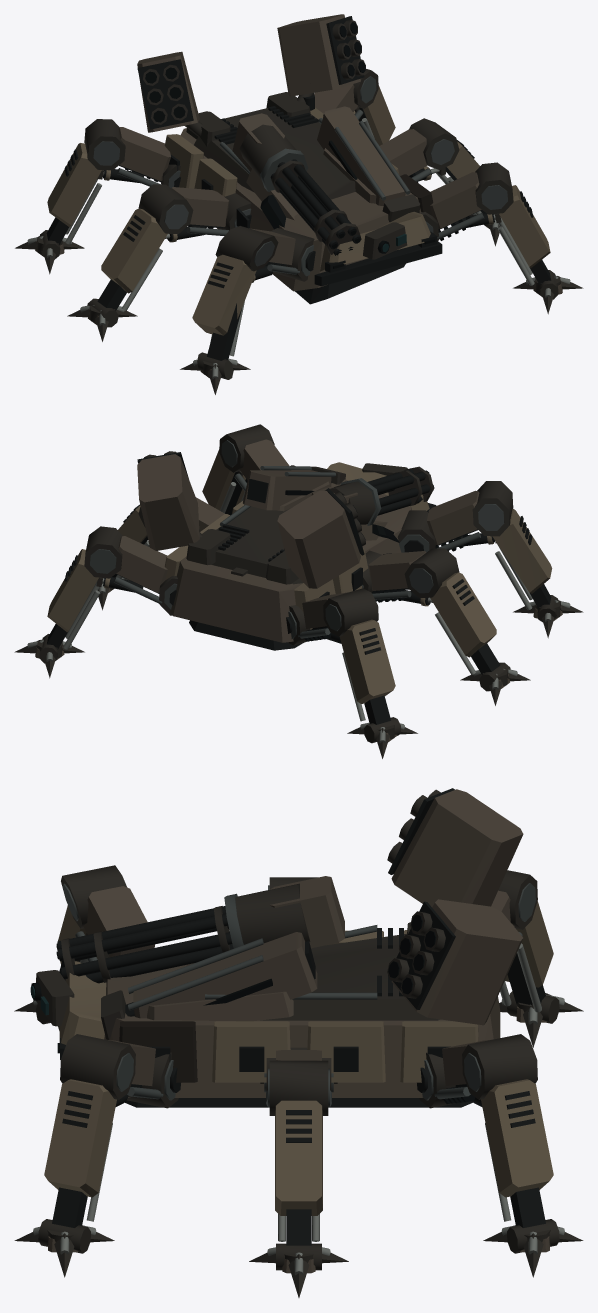
3 renders of one model, top to bottom at view 1: azimuth 30°, elevation 25°; view 2: azimuth 150°, elevation 25°; view 3: azimuth 270°, elevation 25°, orthographic. The views are drawn at different scales.
Parts seen in each view (by area): view 1: HULL_ARMOR, SHIN_ARMOR_FL, SHIN_ARMOR_ML, MISSILE_POD_R, SHIN_ARMOR_RL, LASER_CANNON, SHIN_ARMOR_FR, MISSILE_POD_L, MINIGUN_BARRELS, MINIGUN_RECEIVER, UPPER_ARM_FR, UPPER_ARM_RL (+11 smaller); view 2: HULL_ARMOR, MISSILE_POD_L, SHIN_ARMOR_RL, SHIN_ARMOR_ML, SHIN_ARMOR_FL, MISSILE_POD_R, SHIN_ARMOR_RR, UPPER_ARM_FL, LASER_CANNON, SHIN_ARMOR_FR, UPPER_ARM_RR, UPPER_ARM_ML (+10 smaller); view 3: HULL_ARMOR, MISSILE_POD_R, SHIN_ARMOR_FR, SHIN_ARMOR_RR, MISSILE_POD_L, SHIN_ARMOR_MR, LASER_CANNON, MINIGUN_BARRELS, MINIGUN_RECEIVER, SHIN_ARMOR_RL, SHIN_ARMOR_FL, UPPER_ARM_RR (+8 smaller).
Part boxes in pixels (bbox=[...]): HULL_ARMOR: bbox=[164, 92, 442, 304]; SHIN_ARMOR_FL: bbox=[192, 226, 278, 379]; SHIN_ARMOR_ML: bbox=[87, 184, 193, 327]; MISSILE_POD_R: bbox=[277, 14, 365, 96]; SHIN_ARMOR_RL: bbox=[40, 119, 125, 259]; LASER_CANNON: bbox=[317, 106, 420, 222]; SHIN_ARMOR_FR: bbox=[475, 162, 558, 299]; MISSILE_POD_L: bbox=[137, 51, 199, 132]; MINIGUN_BARRELS: bbox=[270, 159, 361, 255]; MINIGUN_RECEIVER: bbox=[232, 113, 308, 191]; UPPER_ARM_FR: bbox=[420, 172, 484, 240]; UPPER_ARM_RL: bbox=[117, 127, 180, 188]; HULL_ARMOR: bbox=[164, 462, 436, 650]; MISSILE_POD_L: bbox=[277, 488, 365, 588]; SHIN_ARMOR_RL: bbox=[323, 588, 400, 743]; SHIN_ARMOR_ML: bbox=[404, 548, 510, 691]; SHIN_ARMOR_FL: bbox=[472, 481, 558, 622]; MISSILE_POD_R: bbox=[137, 451, 199, 550]; SHIN_ARMOR_RR: bbox=[39, 526, 122, 663]; UPPER_ARM_FL: bbox=[397, 490, 480, 552]; LASER_CANNON: bbox=[243, 466, 345, 510]; SHIN_ARMOR_FR: bbox=[202, 424, 274, 515]; UPPER_ARM_RR: bbox=[113, 536, 177, 615]; UPPER_ARM_ML: bbox=[362, 550, 426, 602]; HULL_ARMOR: bbox=[57, 922, 500, 1107]; MISSILE_POD_R: bbox=[387, 899, 523, 1025]; SHIN_ARMOR_FR: bbox=[38, 1034, 135, 1253]; SHIN_ARMOR_RR: bbox=[462, 1034, 559, 1253]; MISSILE_POD_L: bbox=[387, 788, 523, 907]; SHIN_ARMOR_MR: bbox=[268, 1060, 329, 1270]; LASER_CANNON: bbox=[101, 932, 317, 1039]; MINIGUN_BARRELS: bbox=[56, 906, 233, 983]; MINIGUN_RECEIVER: bbox=[224, 876, 344, 948]; SHIN_ARMOR_RL: bbox=[498, 870, 559, 1023]; SHIN_ARMOR_FL: bbox=[35, 865, 127, 1024]; UPPER_ARM_RR: bbox=[417, 1039, 491, 1108].
Bounding box in the file's own units: 6.98 × 3.04 × 5.45.
